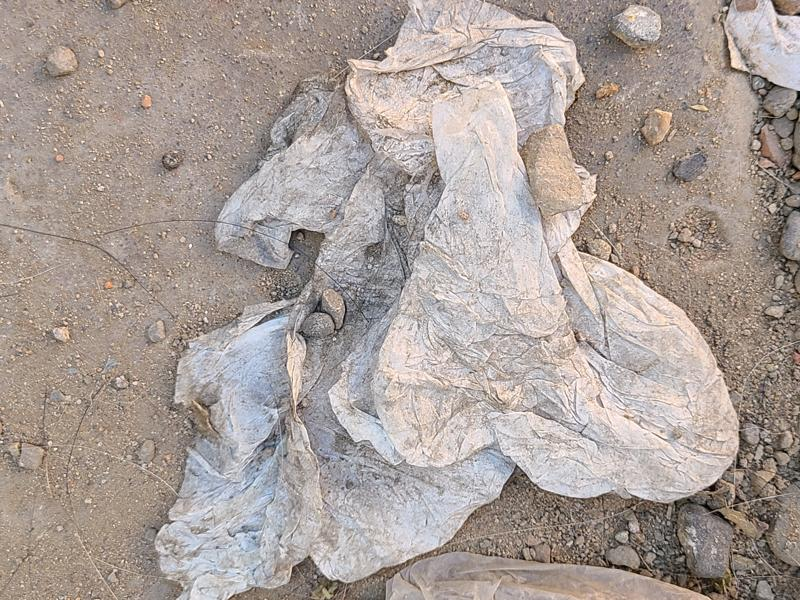papel: (156, 0, 740, 600)
